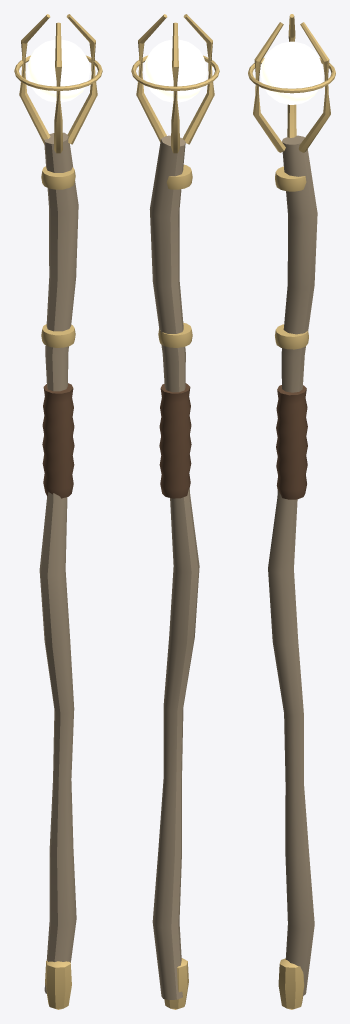
Rendered from sunspire_staff.glb.
3 renders of one model, left to right at view 1: azimuth 30°, elevation 25°; view 2: azimuth 150°, elevation 25°; view 3: azimuth 330°, elevation 25°, orthographic.
Parts seen in each view (by area): view 1: sunspire_staff; view 2: sunspire_staff; view 3: sunspire_staff.
Boxes of the visible parts, left/top/right/bottom form: sunspire_staff: left=14, top=14, right=102, bottom=1009; sunspire_staff: left=131, top=14, right=219, bottom=1009; sunspire_staff: left=248, top=14, right=335, bottom=1009.
Bounding box in the file's own units: 0.1514 × 1.88 × 0.1512.
